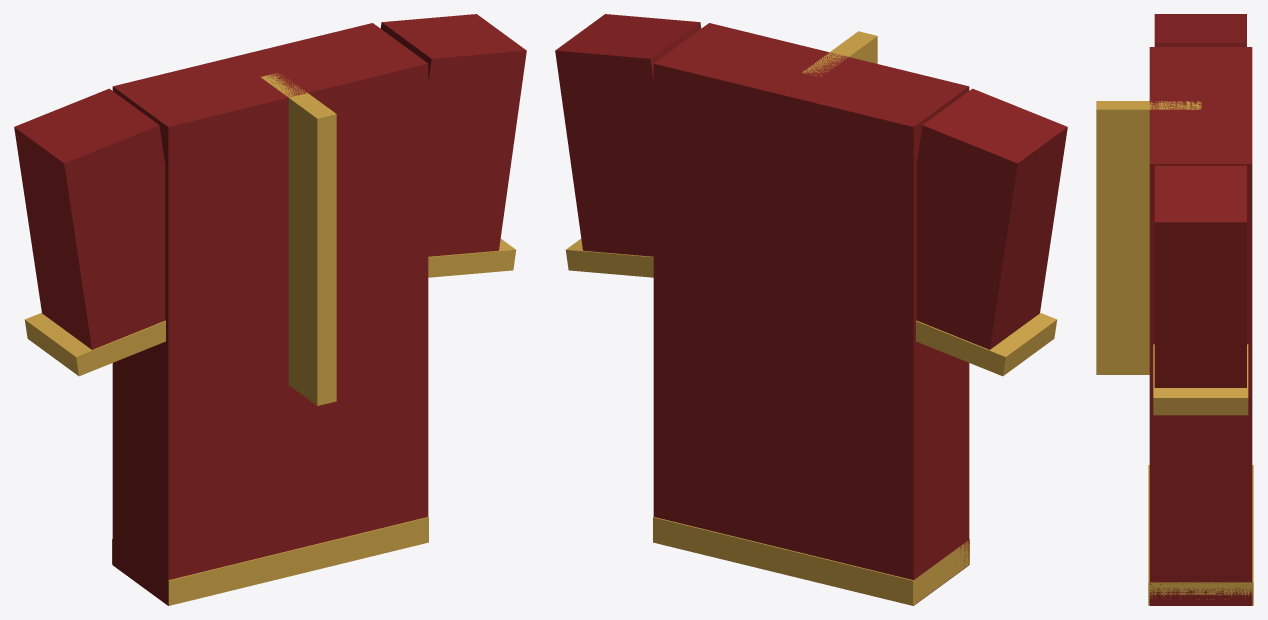
The model's file is himalayan_kurta.glb.
The picture shows the model from 3 angles, left to right: view 1: azimuth 30°, elevation 25°; view 2: azimuth 150°, elevation 25°; view 3: azimuth 270°, elevation 25°; orthographic projection. The views are drawn at different scales.
Bounding box in the file's own units: 0.9605 × 0.9526 × 0.306.
